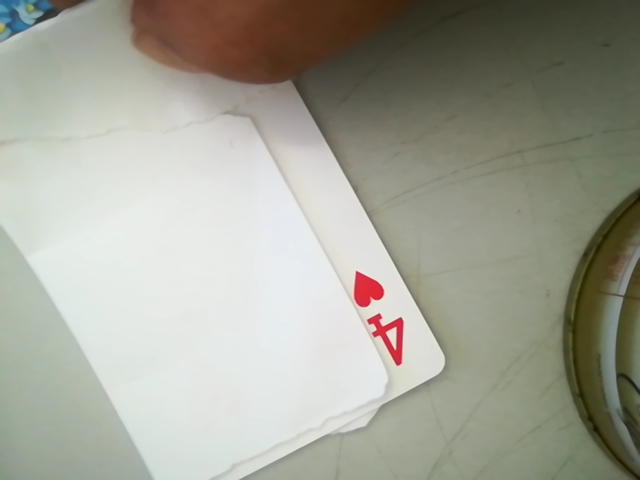hx 4: (337, 264, 422, 375)
